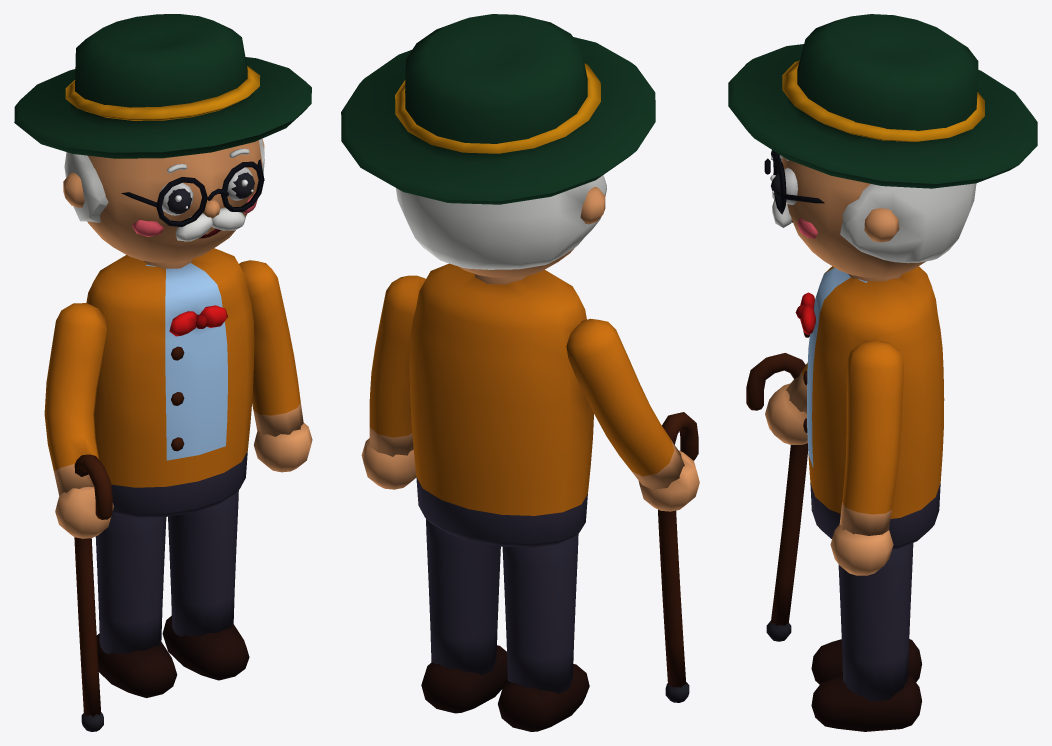
The model's file is Passenger_Grandpa.fbx.
3 views of the same model, side by side, from view 1: azimuth 30°, elevation 25°; view 2: azimuth 150°, elevation 25°; view 3: azimuth 270°, elevation 25° (orthographic). The views are drawn at different scales.
Parts seen in each view (by area): view 1: Head, Passenger_Grandpa, ArmR, LegR, LegL, ArmL; view 2: Head, Passenger_Grandpa, ArmR, LegR, LegL, ArmL; view 3: Head, Passenger_Grandpa, LegL, ArmL, ArmR, LegR.
Part boxes in pixels (<box>): Head: <box>14,14,311,262</box>; Passenger_Grandpa: <box>86,248,254,517</box>; ArmR: <box>44,303,113,731</box>; LegR: <box>95,514,177,697</box>; LegL: <box>162,490,249,680</box>; ArmL: <box>239,260,312,472</box>; Head: <box>341,14,655,277</box>; Passenger_Grandpa: <box>409,263,593,547</box>; ArmR: <box>566,318,699,702</box>; LegR: <box>498,533,589,731</box>; LegL: <box>421,519,507,713</box>; ArmL: <box>361,275,425,489</box>; Head: <box>728,14,1037,277</box>; Passenger_Grandpa: <box>795,266,944,549</box>; LegL: <box>811,543,921,731</box>; ArmL: <box>830,340,903,575</box>; ArmR: <box>746,353,808,641</box>; LegR: <box>811,639,921,684</box>.
Size of the model in its own units: 0.5799 by 1.27 by 0.5305.
